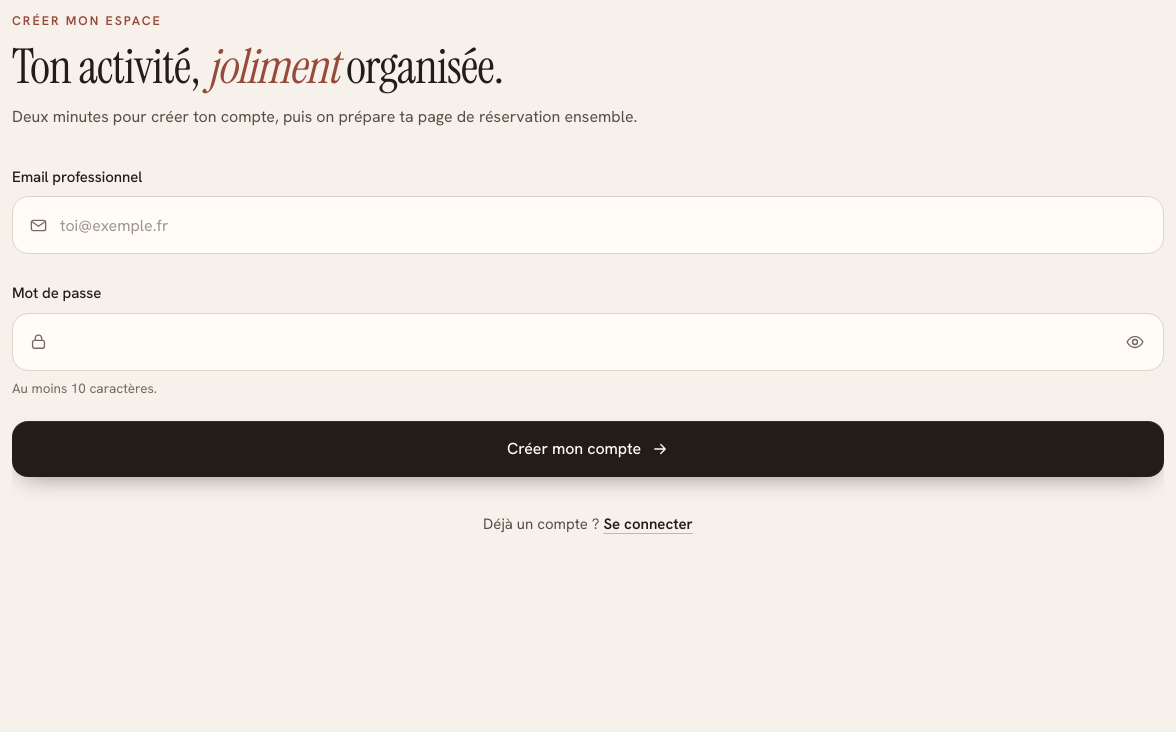
Test: SignupForm › renders a backend validation error on the right field, in the product's words
Type "Mila@Studio.fr" into the field labelled "Email professionnel". click: (606, 225)
box: [48,197,1163,253]
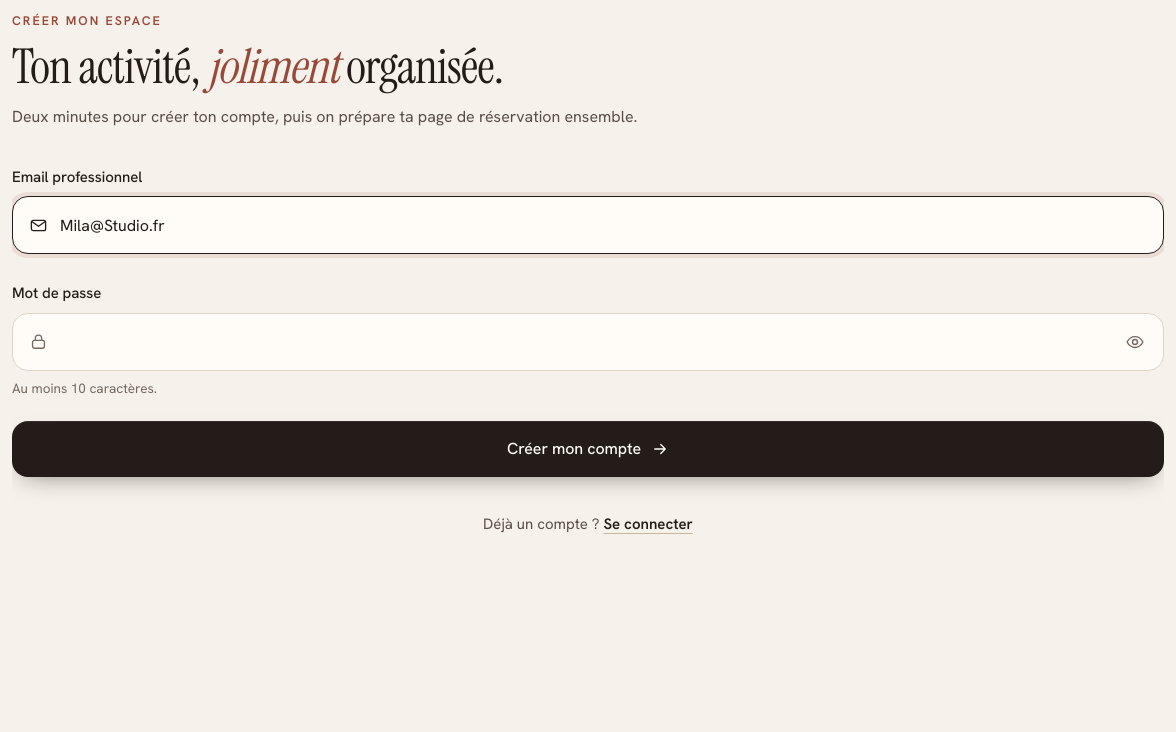
Type "correct-horse-battery" into the password field labelled "Mot de passe". click: (580, 342)
box: [48,314,1113,370]
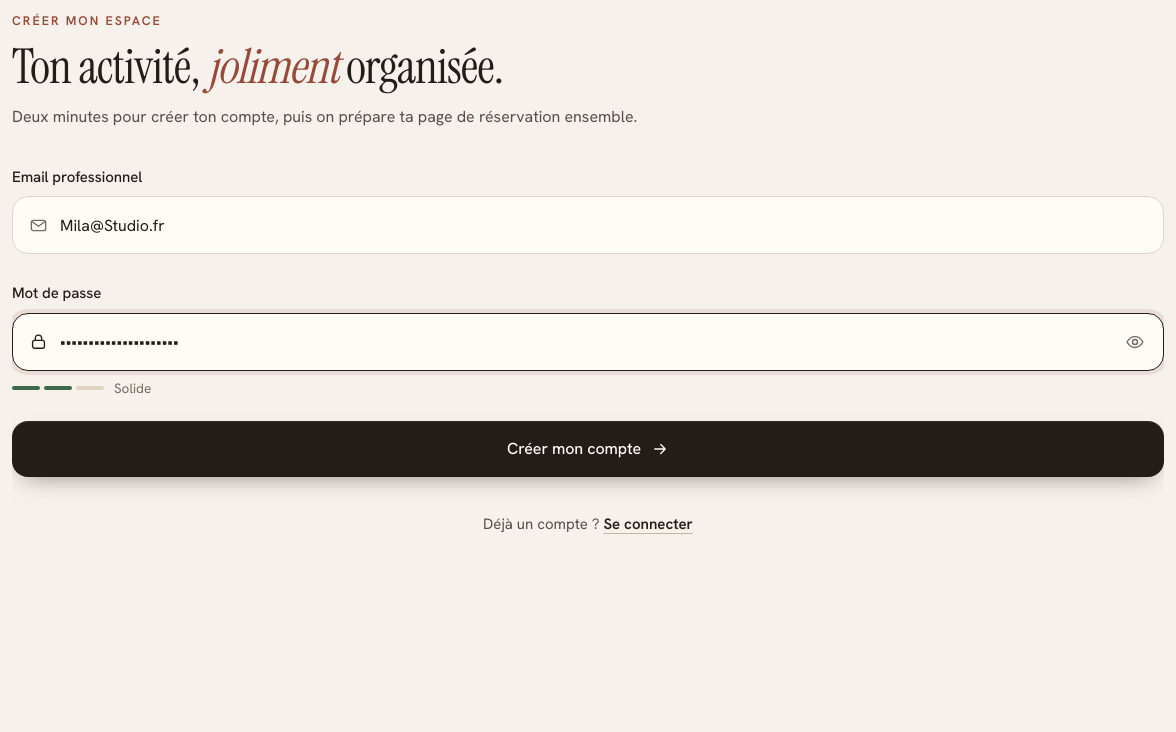
Click the button "Créer mon compte". click: click(588, 449)
box: [12,421,1164,477]
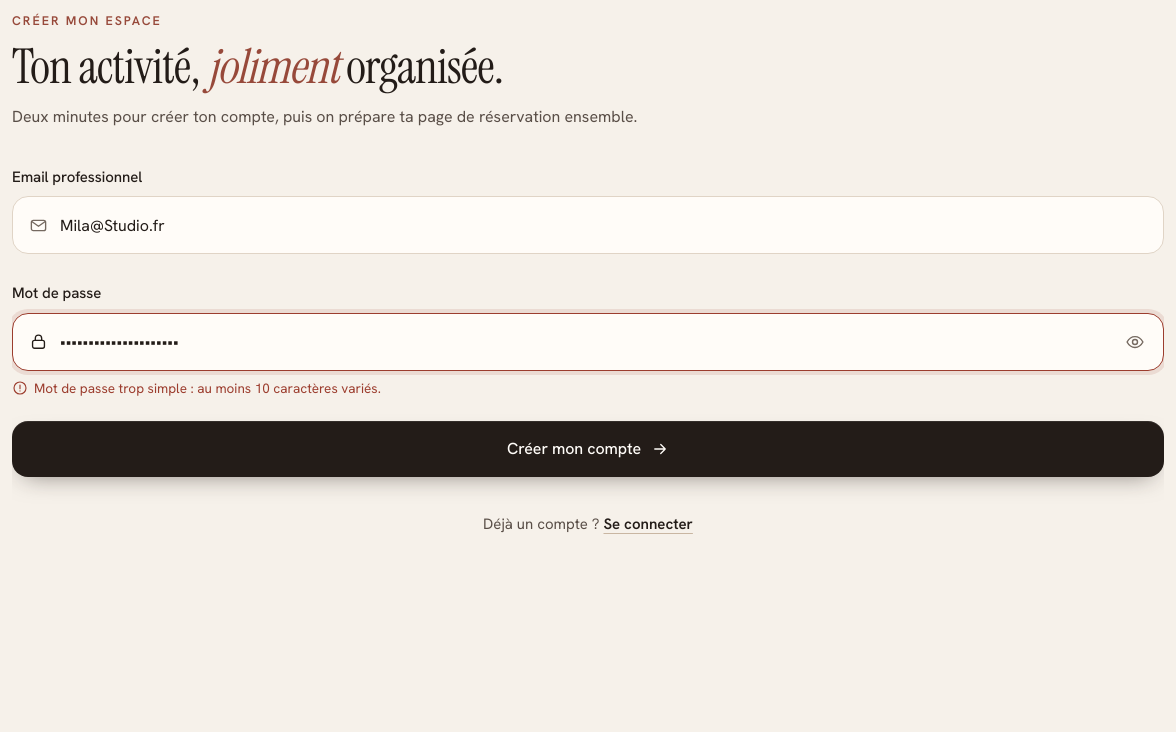
Expected: the text "Mot de passe trop simple : au moins 10 caractères variés." is shown, [34,379,381,397]
